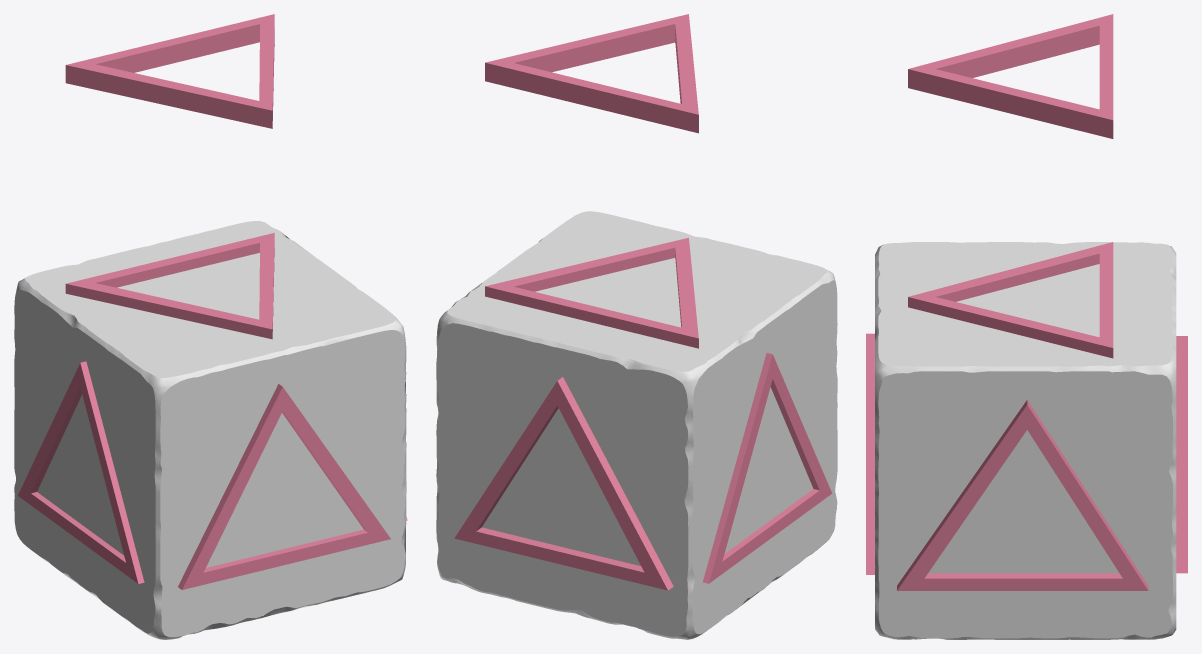
Rendered from tri.fbx.
3 renders of one model, left to right at view 1: azimuth 30°, elevation 25°; view 2: azimuth 150°, elevation 25°; view 3: azimuth 270°, elevation 25°, orthographic. The views are drawn at different scales.
Parts seen in each view (by area): view 1: Cube.054_dmg, Plane.014; view 2: Cube.054_dmg, Plane.014; view 3: Cube.054_dmg, Plane.014.
Boxes of the visible parts, x1=… form: Cube.054_dmg: x1=14, y1=221, x2=407, y2=639; Plane.014: x1=65, y1=14, x2=274, y2=128; Cube.054_dmg: x1=436, y1=211, x2=837, y2=639; Plane.014: x1=485, y1=14, x2=698, y2=133; Cube.054_dmg: x1=866, y1=242, x2=1187, y2=639; Plane.014: x1=908, y1=14, x2=1113, y2=138.
Size of the model in its own units: 213 by 380 by 214.
